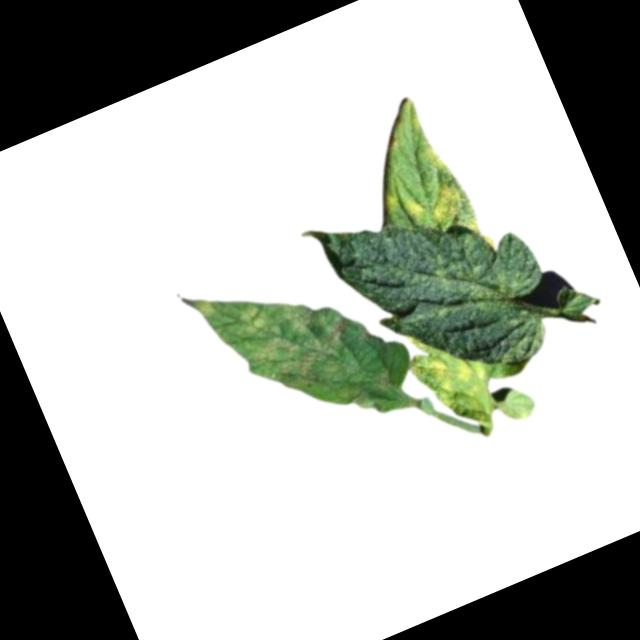Leaf_Mold: (183, 238, 389, 466), (402, 316, 504, 434), (400, 174, 475, 240), (412, 139, 450, 177), (378, 185, 402, 212)
